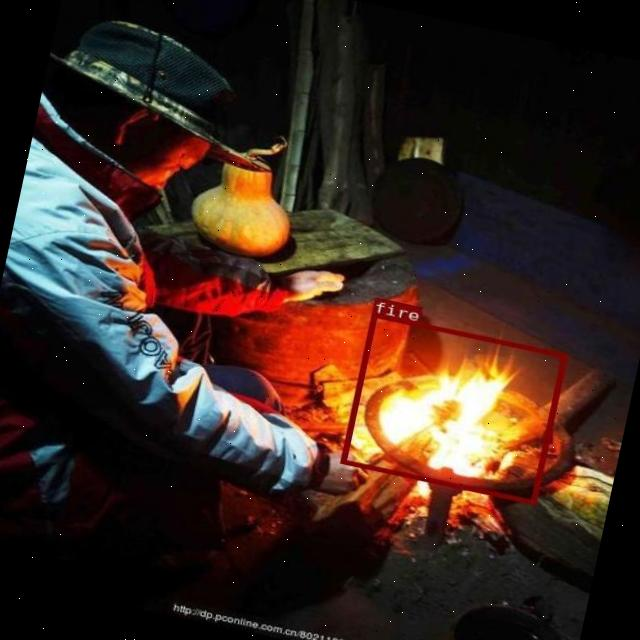fire: (338, 312, 566, 504)
